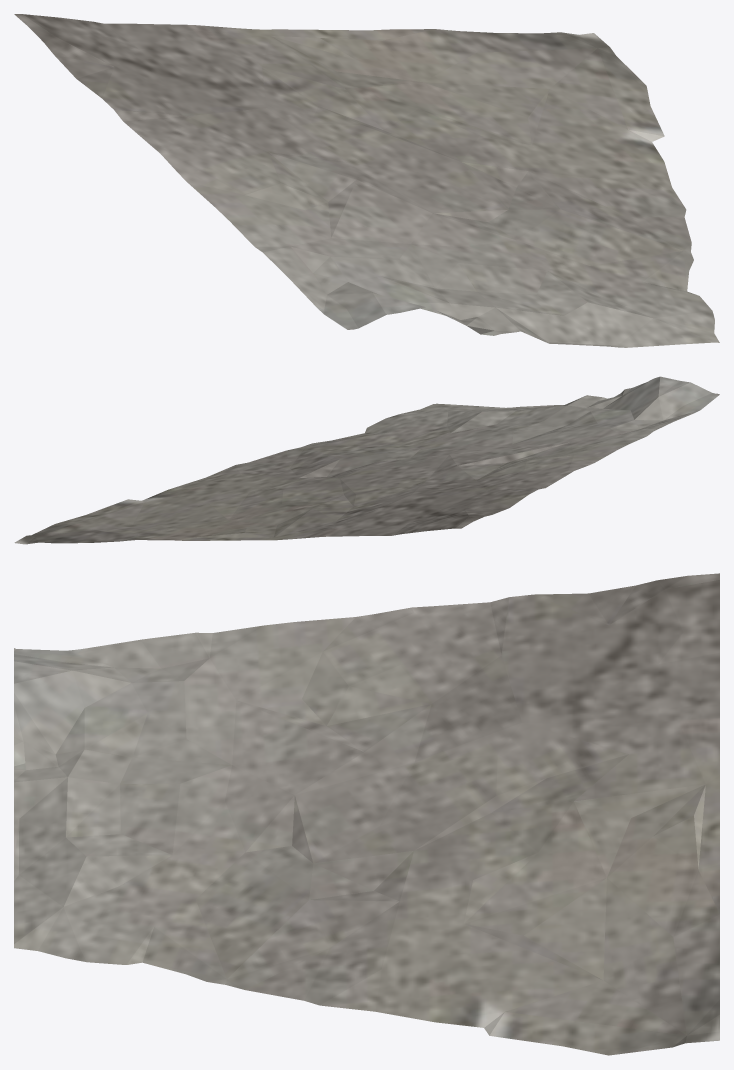
3 views of the same model, one above another, from view 1: azimuth 30°, elevation 25°; view 2: azimuth 150°, elevation 25°; view 3: azimuth 270°, elevation 25° (orthographic). The views are drawn at different scales.
Size of the model in its own units: 1.67 by 0.4811 by 1.67.
2 materials, 2 textured.
